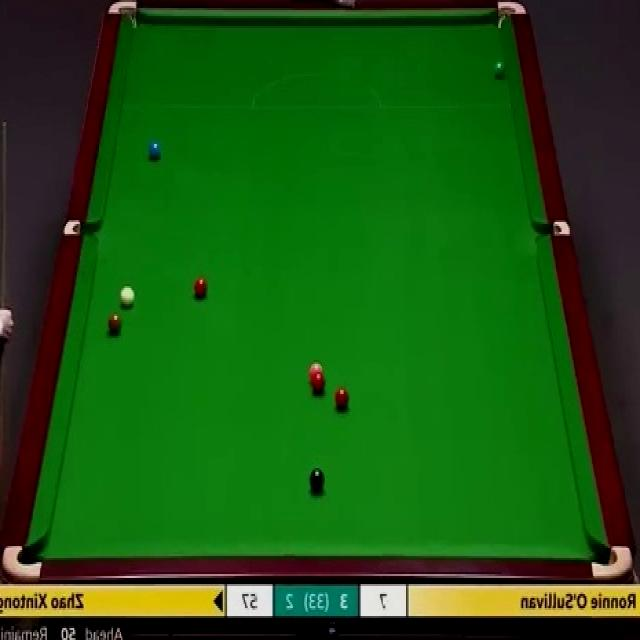pocket: (589, 545, 635, 583), (3, 542, 46, 580), (108, 0, 140, 32), (493, 0, 528, 29), (64, 220, 101, 237), (536, 220, 572, 237)
